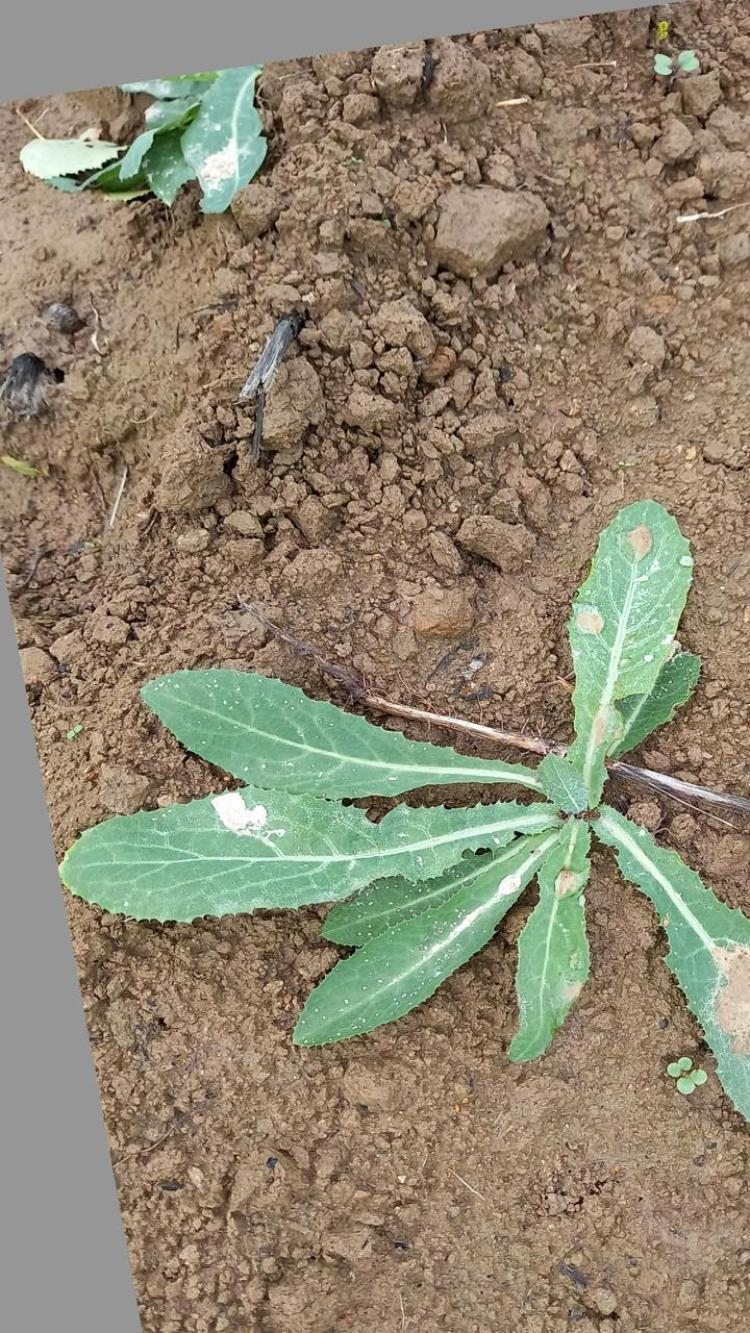osot: (64, 495, 750, 1135)
